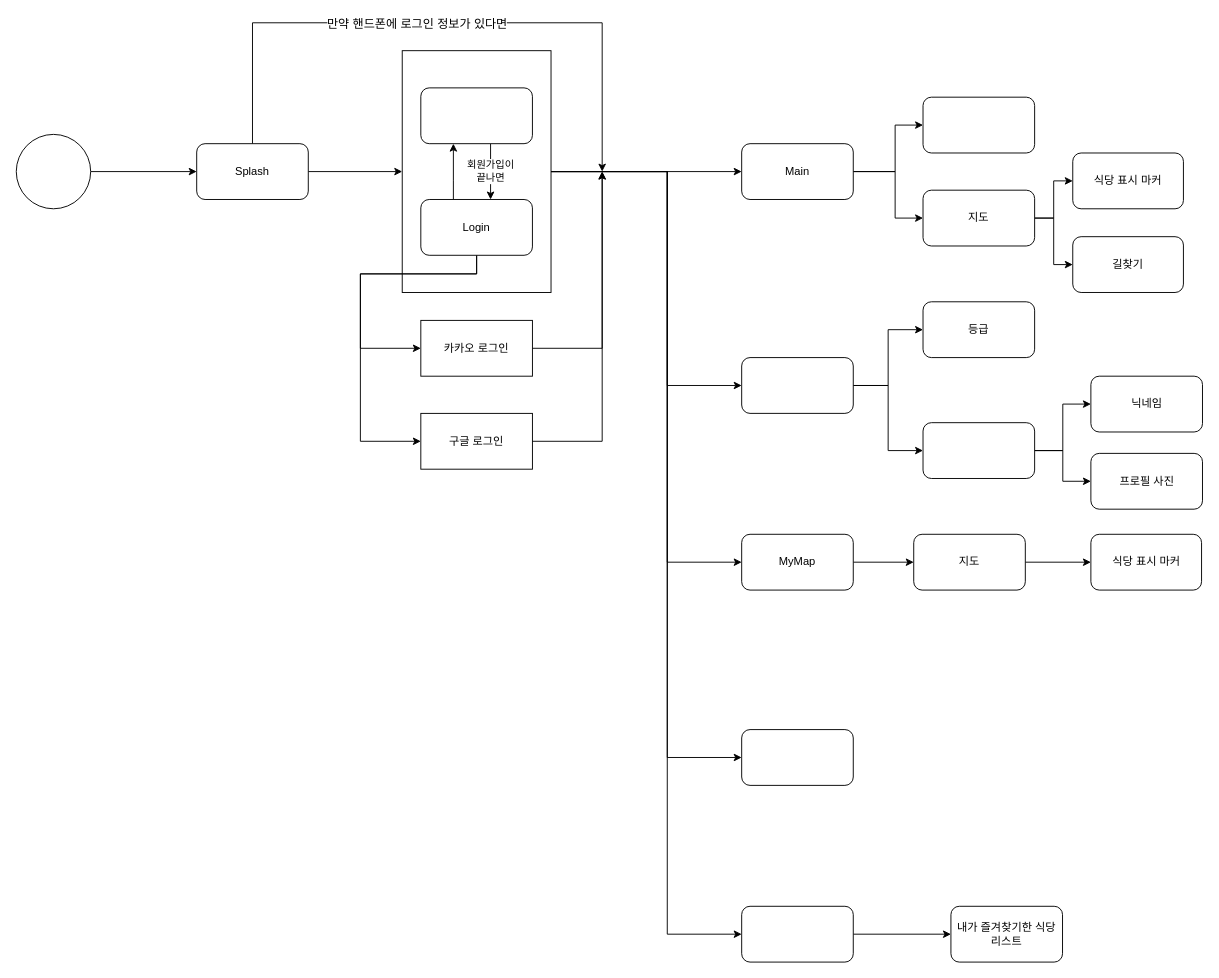
Image size: 1219x978. Some labels were removed from this diagram. The shapes that lost their labels are listed below. From the top down, each one's box as (x1, y1, x2, y2) in pixels, then its label:
(420, 87, 532, 144): Register
(922, 96, 1035, 153): 필터
(15, 133, 91, 209): Start
(741, 357, 853, 413): MyPage
(922, 422, 1035, 478): 개인정보
(741, 729, 853, 785): Setting
(741, 905, 853, 962): 즐겨찾기
